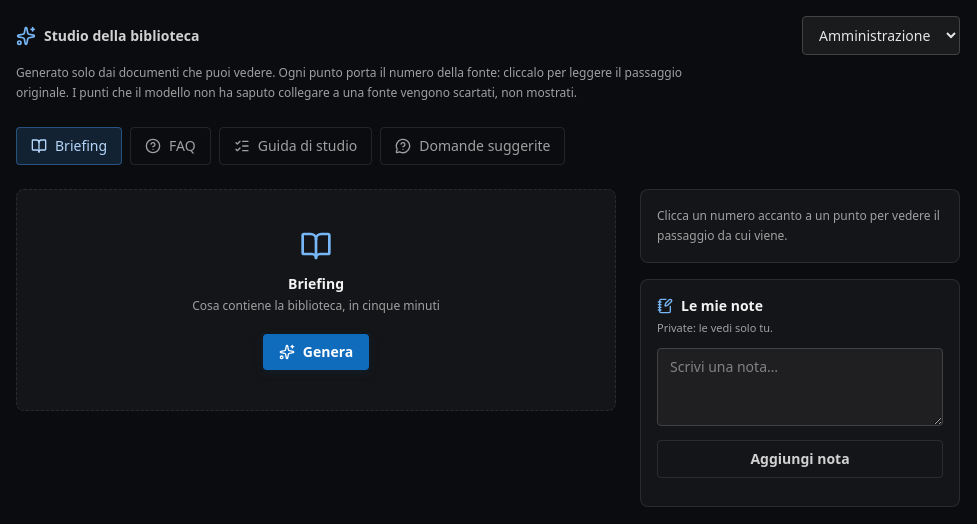
it: StudioTab › says why nothing was generated instead of showing an empty page
What coordinates should you click on to do the following:
click the button "Genera"
I would click on:
 (316, 352)
Its box is [263, 334, 369, 370].
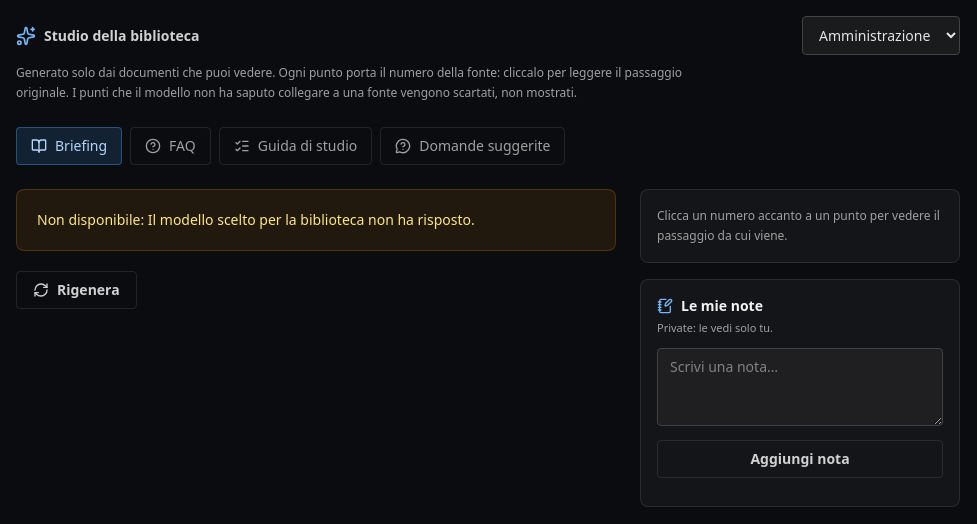
expect the message shows "non ha risposto": met, box [148, 210, 475, 229]
